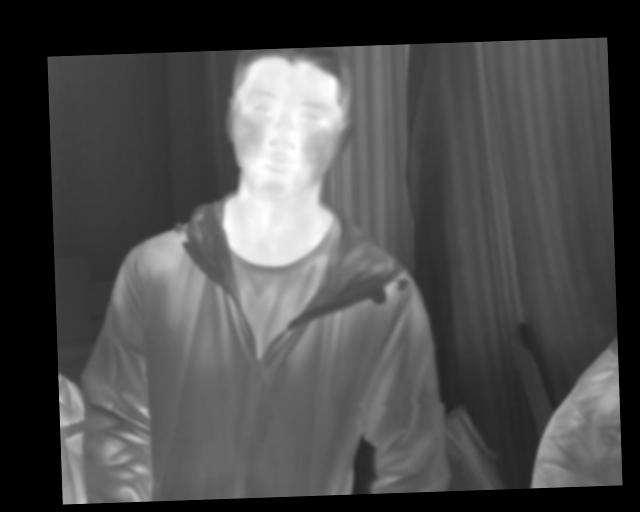face: (223, 47, 354, 198)
